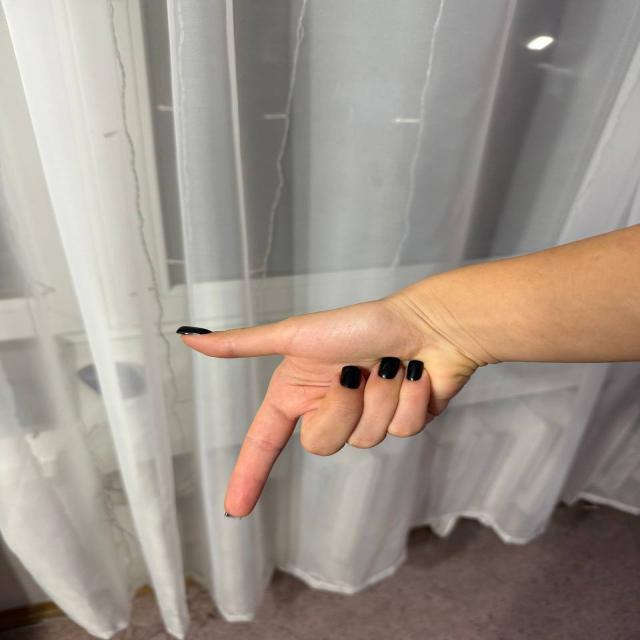g: (171, 298, 449, 517)
